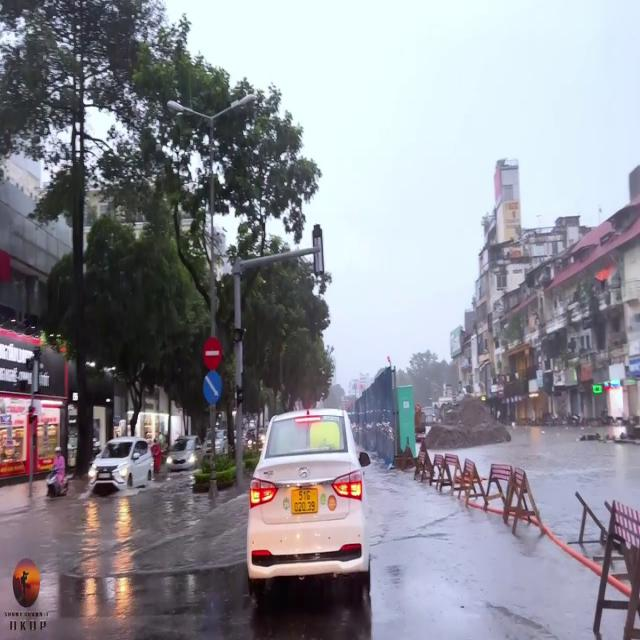bien_vang: (291, 484, 320, 514)
